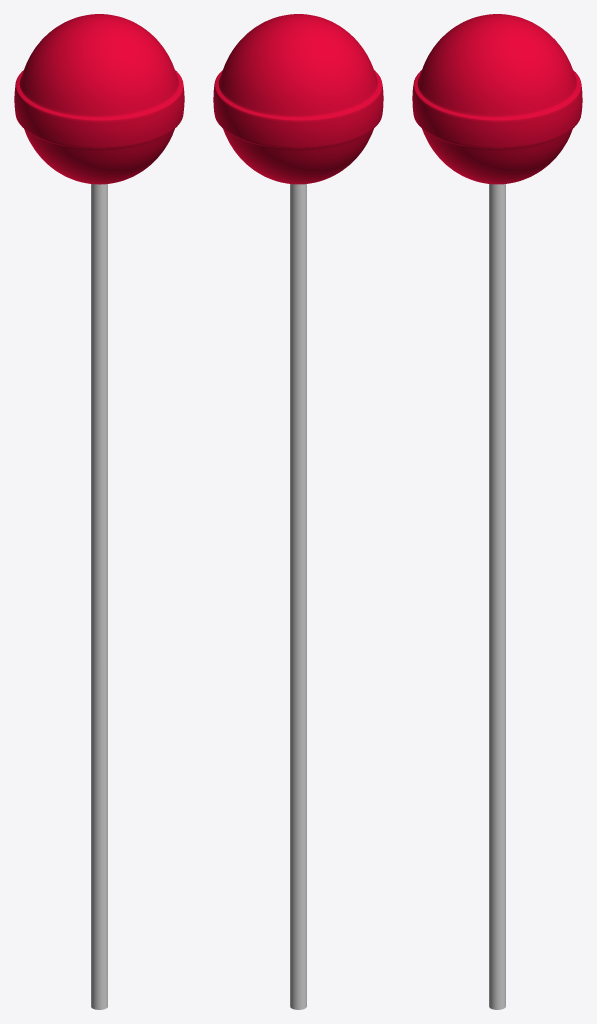
File: lolipop.glb
The picture shows the model from 3 angles, left to right: view 1: azimuth 30°, elevation 25°; view 2: azimuth 150°, elevation 25°; view 3: azimuth 270°, elevation 25°; orthographic projection.
Parts seen in each view (by area): view 1: Sphere.001, Cylinder.001; view 2: Sphere.001, Cylinder.001; view 3: Sphere.001, Cylinder.001.
Part boxes in pixels (box(x1,y1,x2,y2)): Sphere.001: box(14, 14, 184, 184); Cylinder.001: box(91, 184, 107, 1009); Sphere.001: box(213, 14, 383, 184); Cylinder.001: box(290, 184, 306, 1009); Sphere.001: box(412, 14, 582, 184); Cylinder.001: box(489, 184, 505, 1009).
Size of the model in its own units: 3.58 by 22.87 by 3.58.
